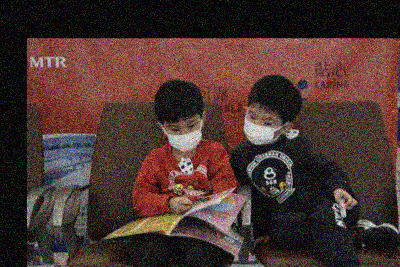with_mask: (164, 117, 202, 154), (243, 108, 281, 145)
